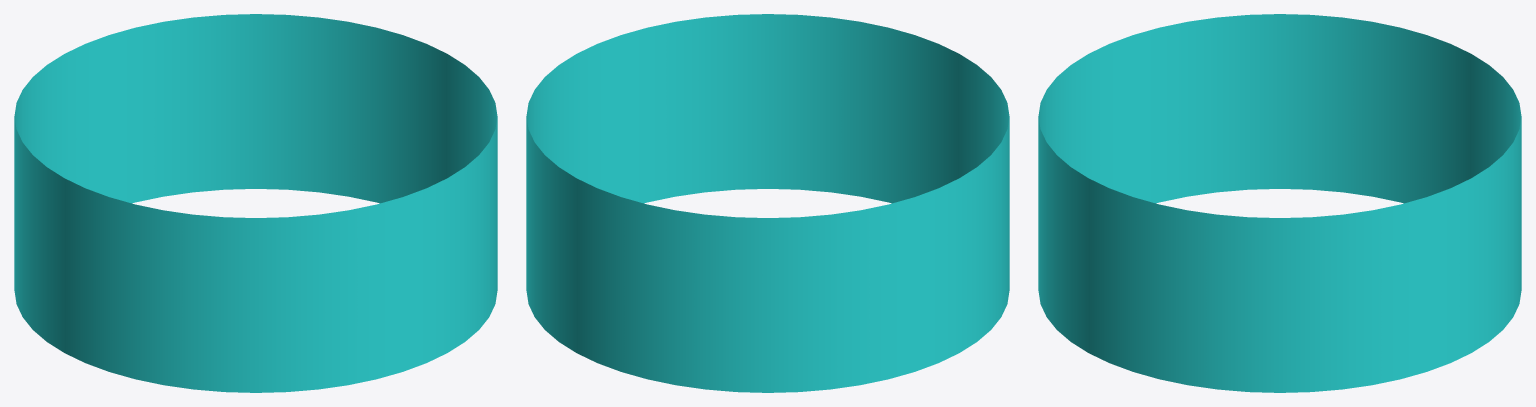
Rendered from original-5.obj.
The picture shows the model from 3 angles, left to right: view 1: azimuth 30°, elevation 25°; view 2: azimuth 150°, elevation 25°; view 3: azimuth 270°, elevation 25°; orthographic projection.
Parts seen in each view (by area): view 1: #ID39; view 2: #ID39; view 3: #ID39.
Boxes of the visible parts, left/top/right/bottom form: #ID39: left=14, top=14, right=497, bottom=392; #ID39: left=526, top=14, right=1009, bottom=392; #ID39: left=1038, top=14, right=1521, bottom=392.
Size of the model in its own units: 0.048 by 0.0192 by 0.048.
